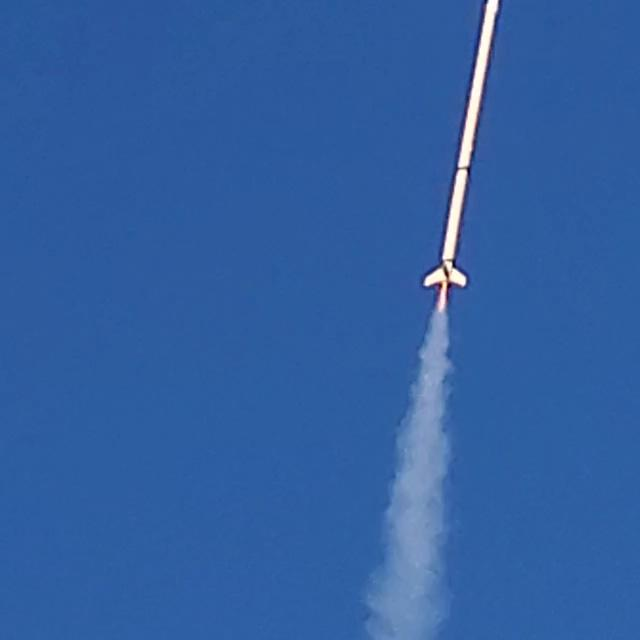rocket: (422, 0, 501, 313)
